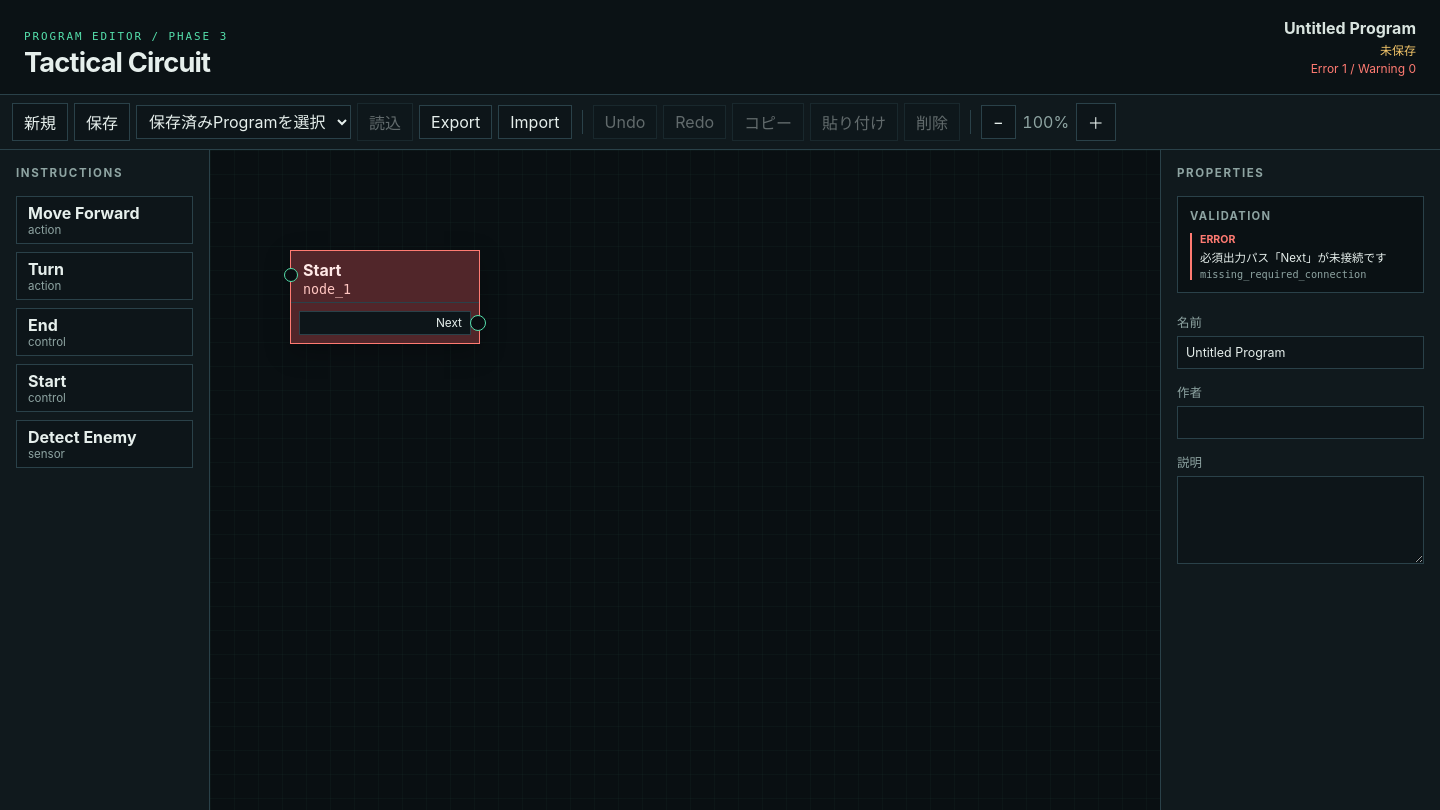
Test: ProgramEditor › localStorageへ保存する
Click the button "保存".
click(102, 122)  # box [74,103,130,141]
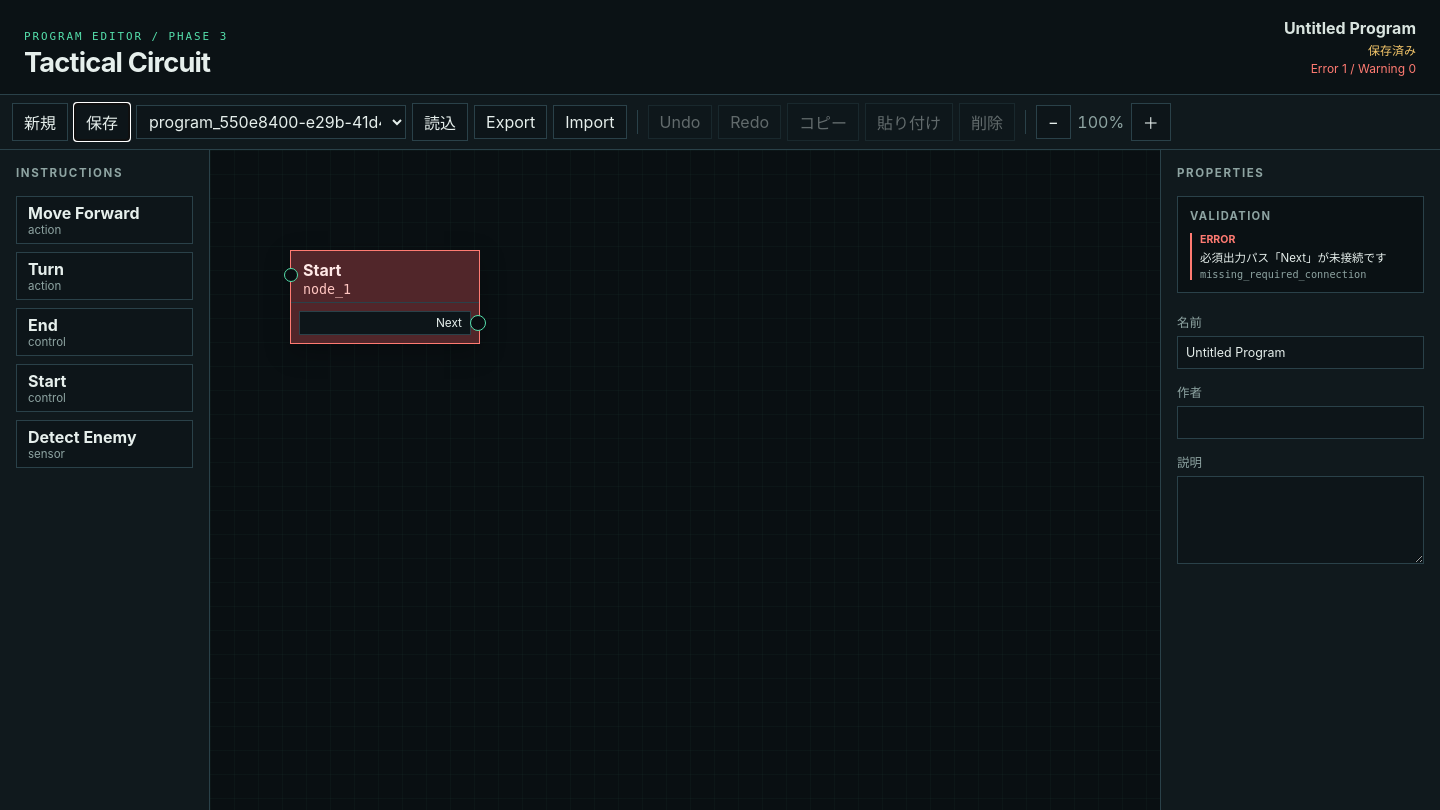
Now the text "保存済み" is shown, box [1368,43,1416,58]
